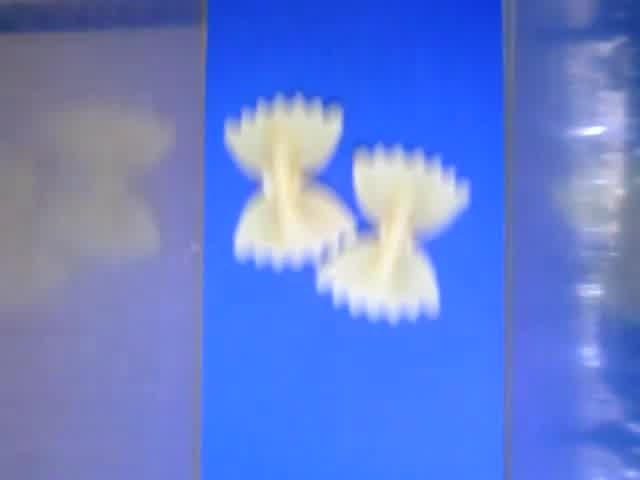farfalle: (316, 144, 474, 324), (224, 92, 360, 272)
